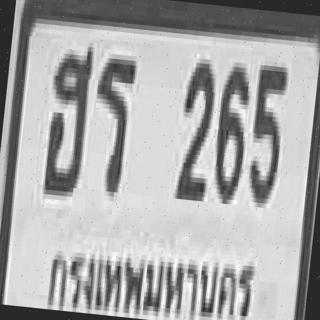A35: (85, 52, 137, 193)
A44: (41, 39, 94, 193)
N02: (174, 55, 217, 194)
N05: (245, 58, 287, 202)
N06: (209, 61, 251, 200)
P04: (43, 238, 259, 320)
